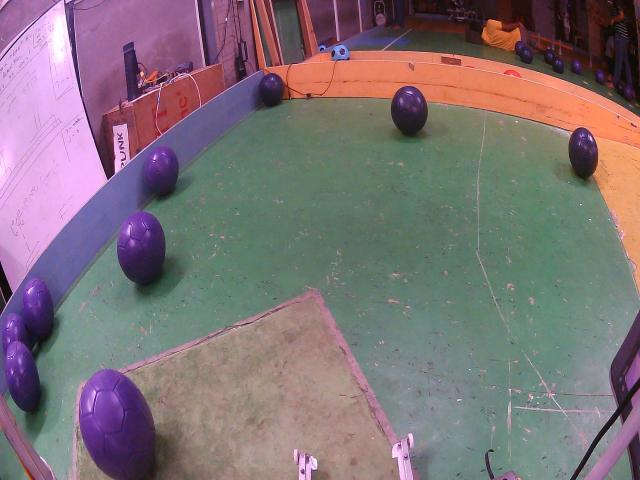jambhalya: (78, 368, 153, 480), (118, 212, 165, 285), (5, 342, 40, 412), (22, 278, 54, 338), (144, 147, 179, 196), (2, 313, 30, 353)
kaalyya: (391, 87, 428, 135), (569, 127, 599, 178), (259, 73, 285, 107), (520, 45, 532, 63), (551, 57, 564, 73), (544, 48, 555, 65)
